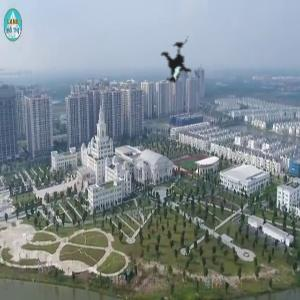drone: (126, 14, 223, 111)
